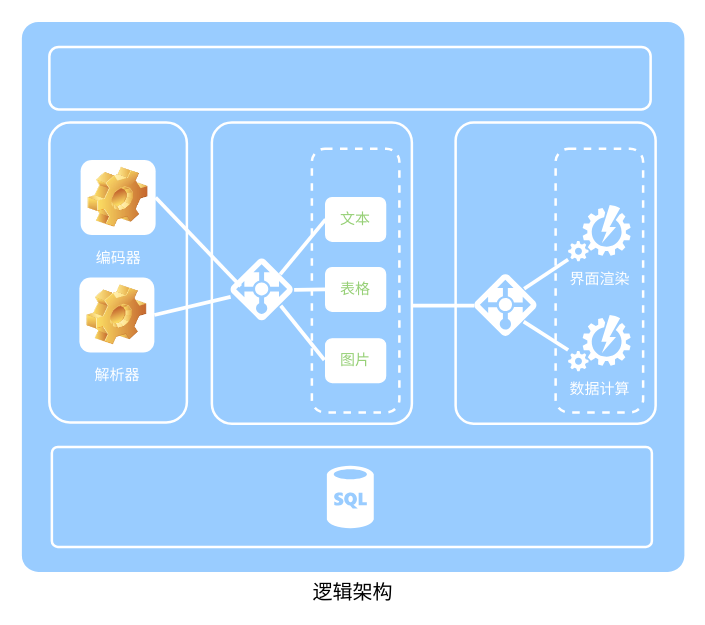
This 705x625 diagram has some shape labels left out. The shapes that lost their labels are listed below. From the top down, each one's box as (x1, y1, x2, y2) in pixels, then its label:
(48, 45, 651, 110): 界面布局
(310, 147, 400, 413): 数据模型
(554, 147, 644, 413): 编辑器
(326, 465, 373, 528): 数据库
